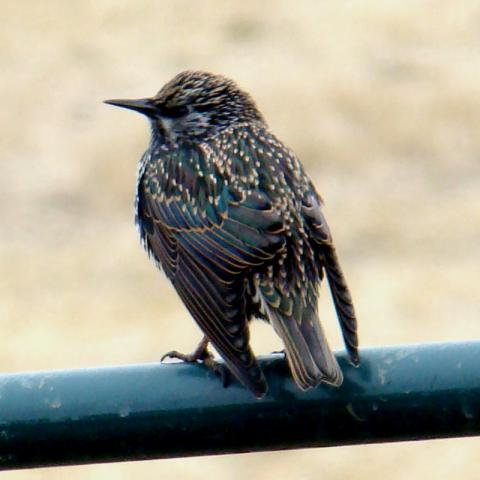bird: (101, 68, 362, 398)
